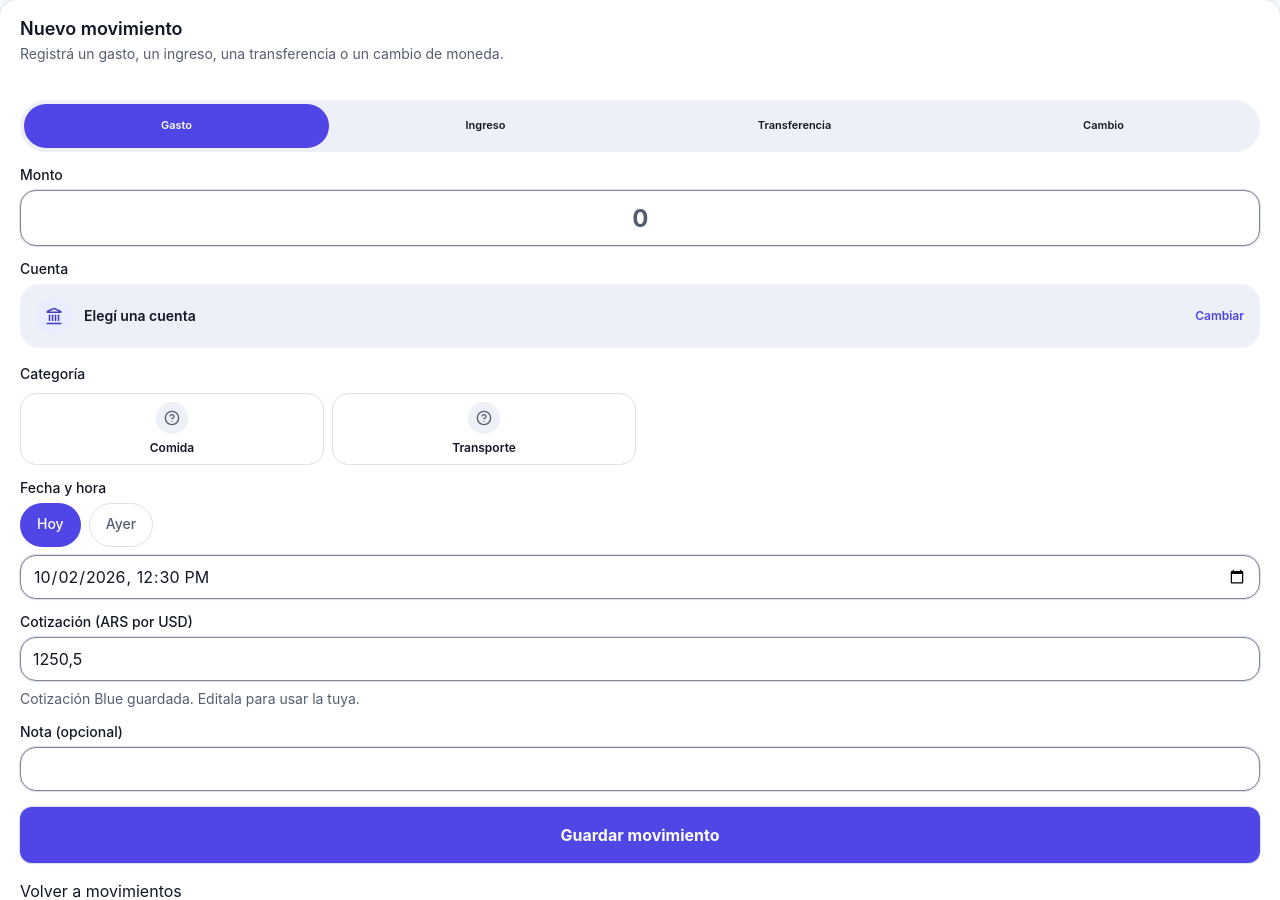
Scenario: MovementForm: transfers and exchanges (DISC-001-03c) › shows a hint instead of an empty destination list when no account can be the destination (AC-02)
This screenshot has width=1280, height=900.
Click the button "Transferencia" at [794, 126], box [642, 104, 947, 148]
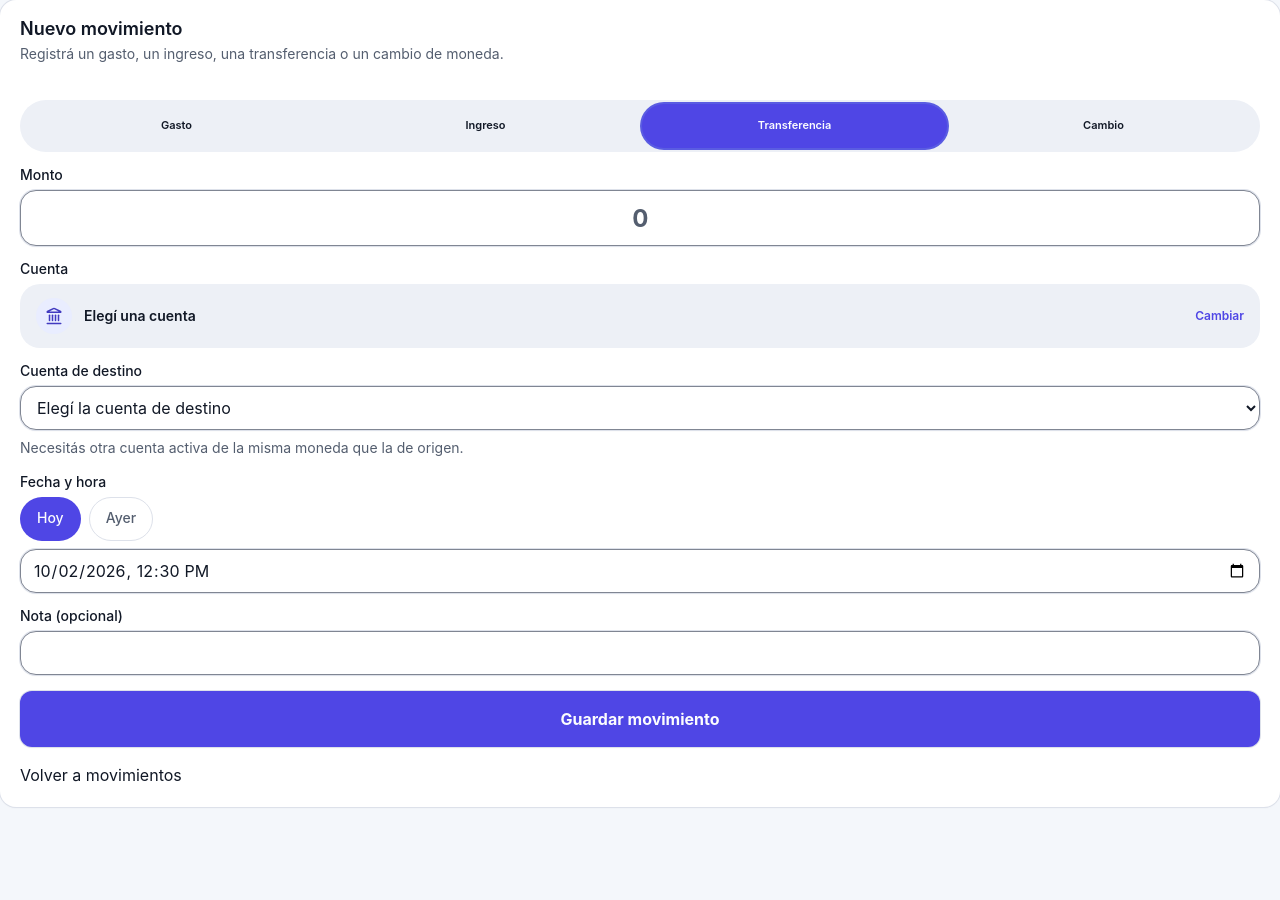
Now the text "Necesitás otra cuenta activa de la misma moneda que la de origen." is shown, box [20, 439, 464, 456]
Click the button with aria-label "Cambio de moneda" at [1104, 126], box [951, 104, 1256, 148]
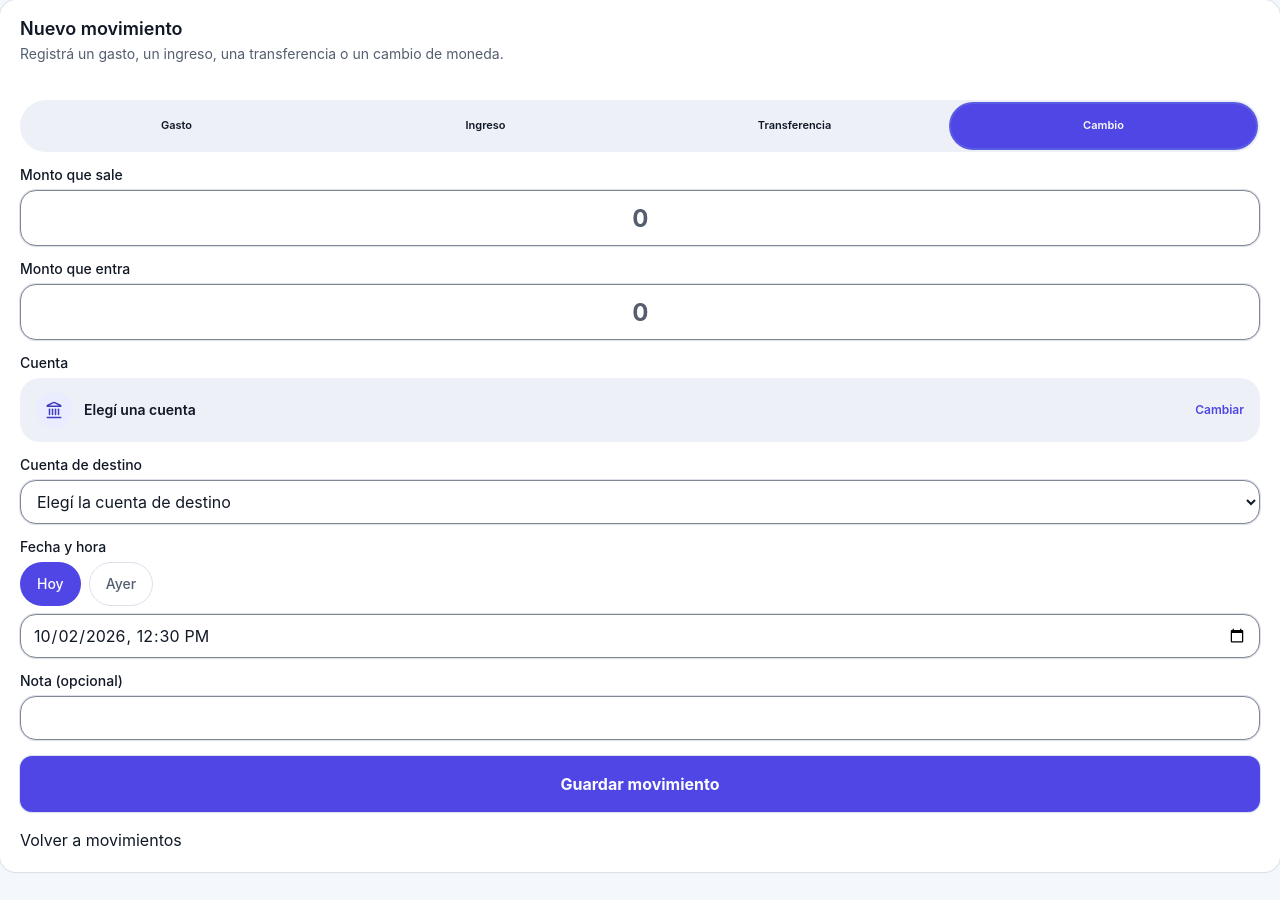
Now the text "Necesitás otra cuenta activa de la misma moneda que la de origen." is gone
